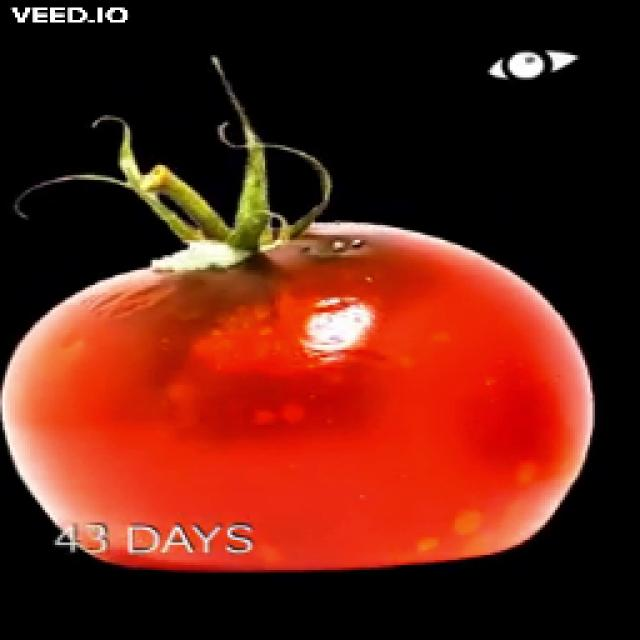overripe tomato: (0, 150, 602, 580)
